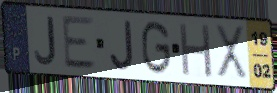E: (60, 15, 98, 71)
G: (141, 20, 173, 77)
H: (177, 21, 215, 80)
J: (108, 19, 136, 73), (33, 15, 58, 67)
X: (213, 23, 249, 83)
